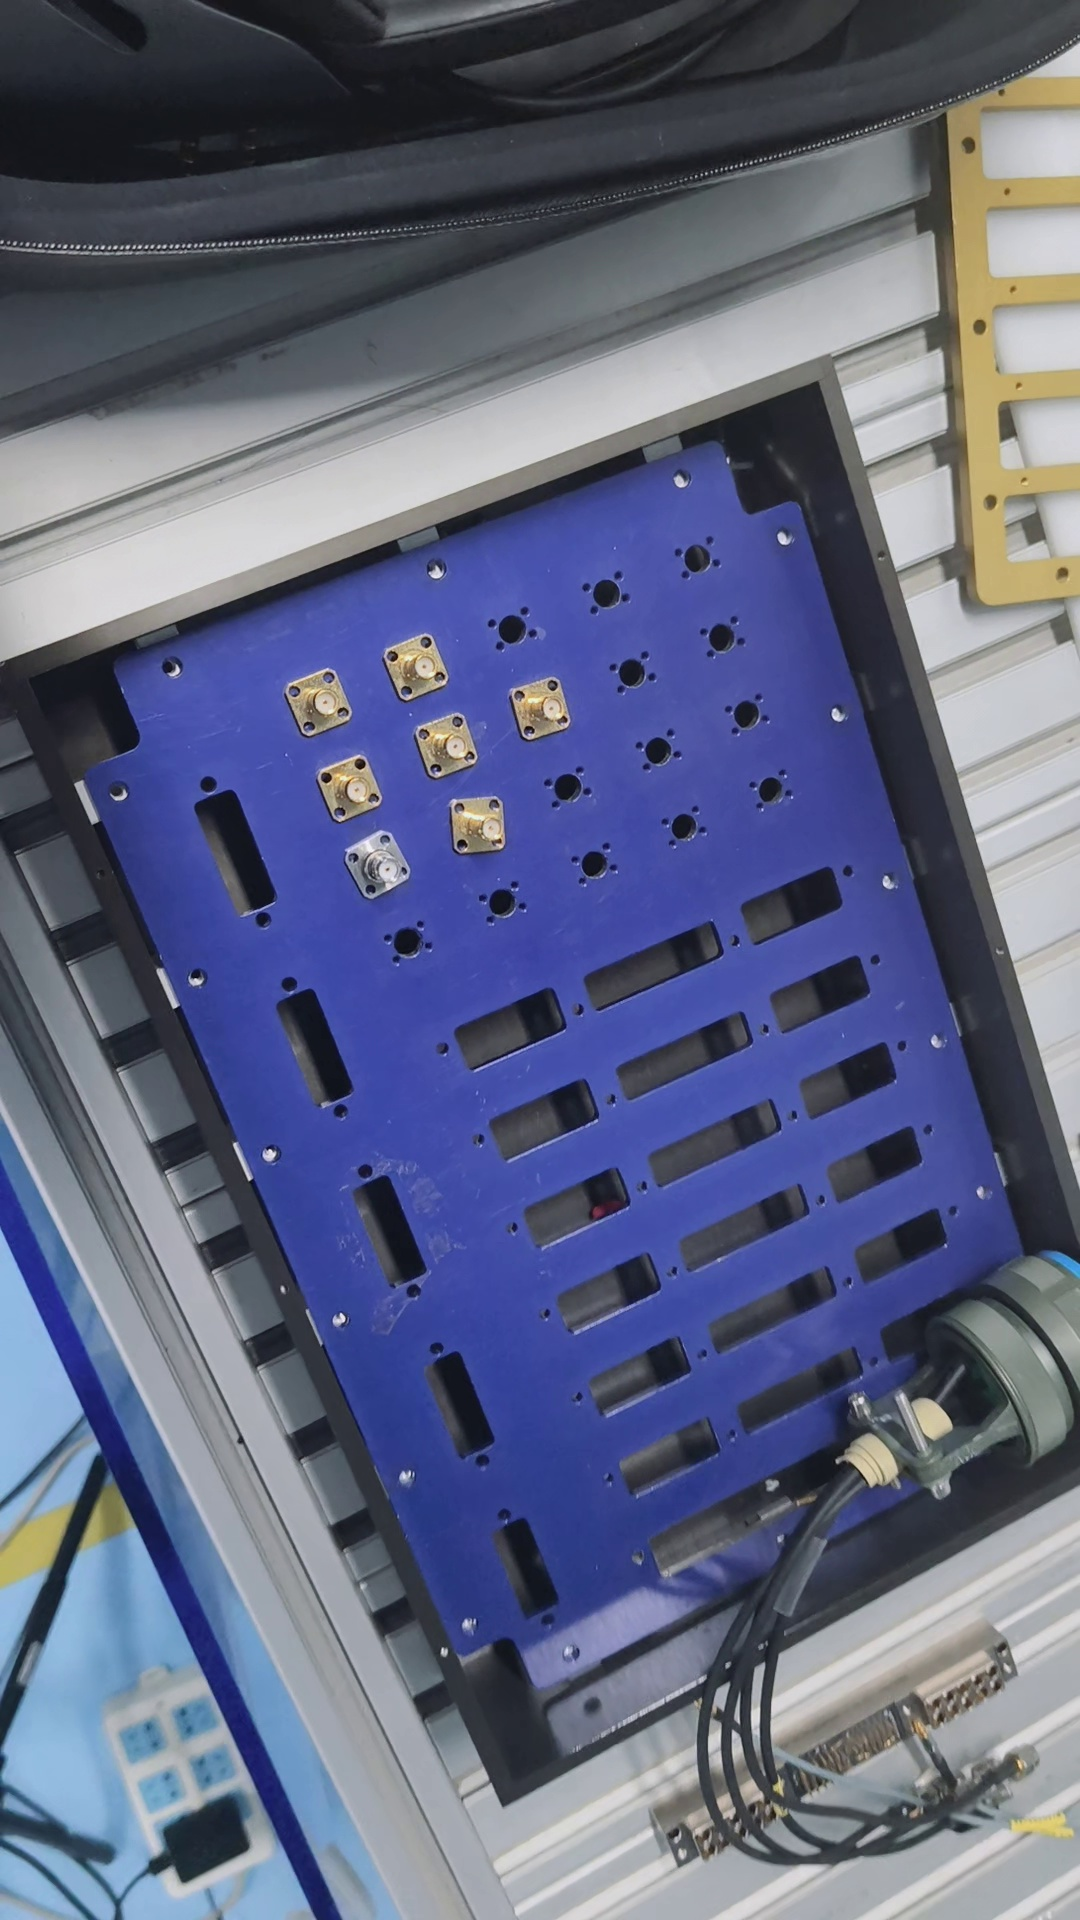SMA: (385, 628, 454, 704), (351, 825, 419, 898), (409, 709, 481, 774), (287, 670, 355, 735), (320, 760, 386, 822), (516, 676, 575, 744), (451, 800, 516, 855)
